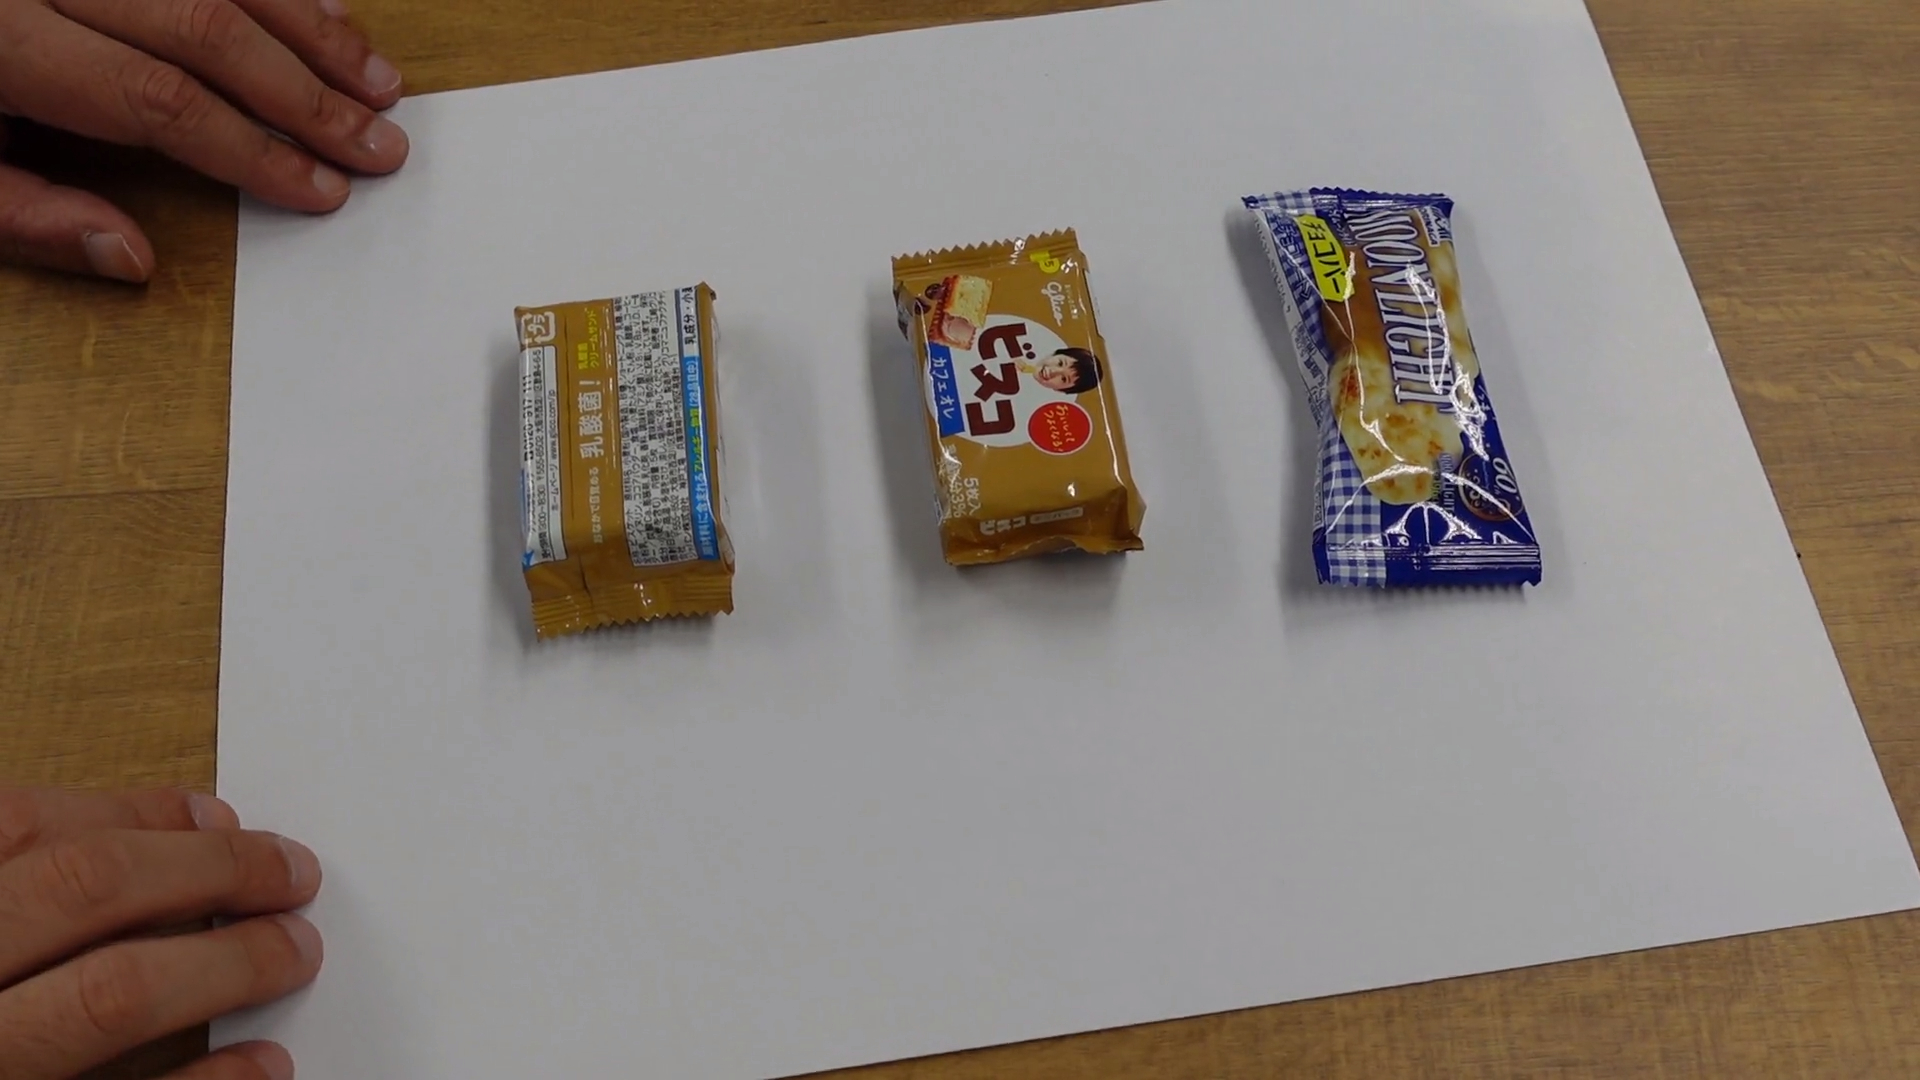BISCO_CafeAuLet: (895, 229, 1139, 566), (518, 287, 732, 638)
